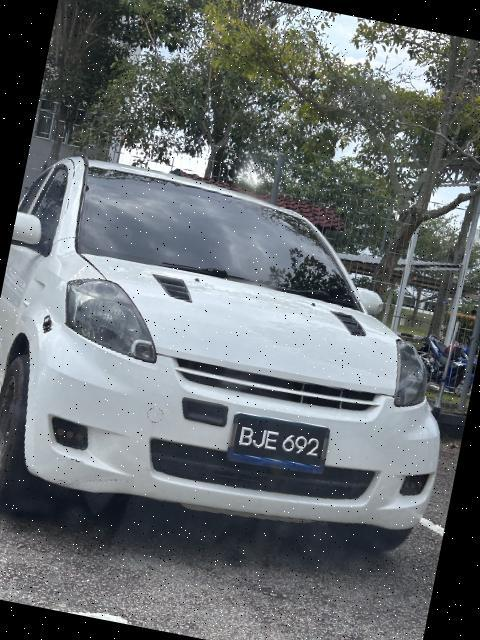BJE692: (226, 411, 333, 476)
License_Plate: (226, 411, 333, 476)
car: (1, 149, 480, 594)
